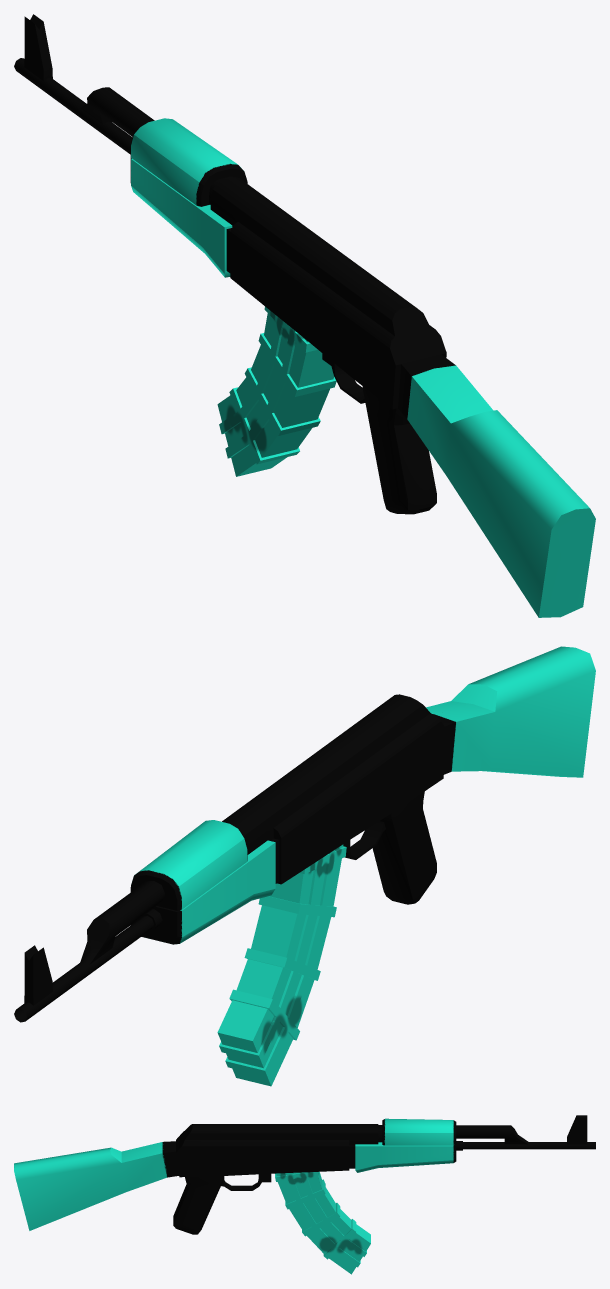
Rendered from mox47_15.glb.
3 views of the same model, one above another, from view 1: azimuth 30°, elevation 25°; view 2: azimuth 150°, elevation 25°; view 3: azimuth 270°, elevation 25° (orthographic). The views are drawn at different scales.
Visible parts, largest first — view 1: gun, mag.001; view 2: gun, mag.001; view 3: gun, mag.001.
Part boxes in pixels (bbox=[...]): gun: bbox=[14, 14, 595, 617]; mag.001: bbox=[217, 306, 336, 476]; gun: bbox=[14, 646, 595, 1022]; mag.001: bbox=[217, 844, 346, 1086]; gun: bbox=[14, 1115, 595, 1234]; mag.001: bbox=[275, 1171, 370, 1274].
Bounding box in the file's own units: 0.046 × 0.2522 × 0.866.
2 materials, 2 textured.
